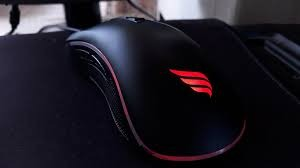mouse: (60, 14, 252, 166)
